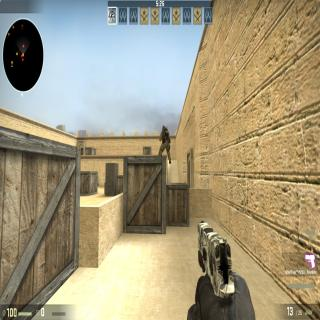CT-Body: (159, 125, 170, 162)
CT-Head: (162, 125, 165, 130)
